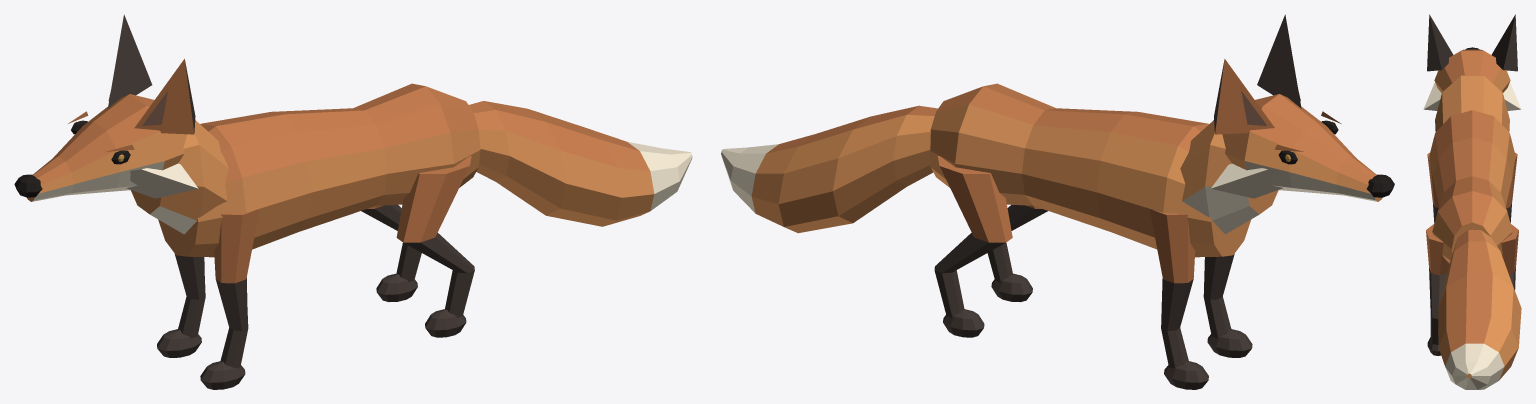
Rendered from fox-astra-candidate.glb.
3 views of the same model, side by side, from view 1: azimuth 30°, elevation 25°; view 2: azimuth 150°, elevation 25°; view 3: azimuth 270°, elevation 25° (orthographic). The views are drawn at different scales.
Parts seen in each view (by area): view 1: FoxCandidate; view 2: FoxCandidate; view 3: FoxCandidate.
Part boxes in pixels (<box>): FoxCandidate: <box>14,14,692,389</box>; FoxCandidate: <box>721,14,1394,389</box>; FoxCandidate: <box>1423,14,1521,389</box>.
Size of the model in its own units: 1.9 by 0.9398 by 0.3382.
